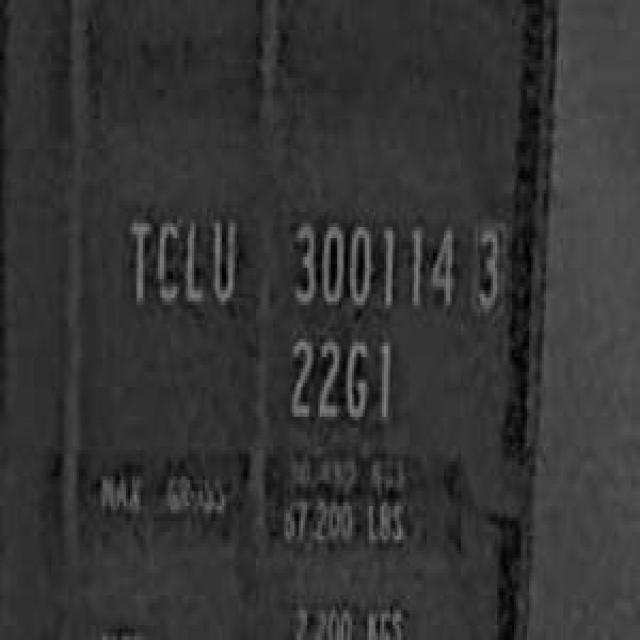dv: (469, 216, 506, 320)
owner: (122, 201, 239, 320)
serial: (286, 208, 456, 324)
size: (282, 332, 396, 436)
